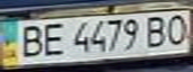4: (69, 18, 93, 55), (87, 18, 109, 53)
7: (106, 16, 127, 53)
9: (121, 16, 145, 52)
B: (12, 21, 48, 59), (142, 14, 172, 48)
E: (36, 20, 69, 57)
O: (160, 11, 193, 46)
